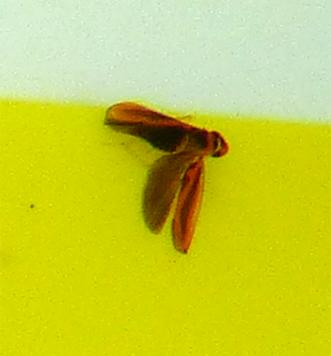Hemiptera: (100, 100, 231, 256)
